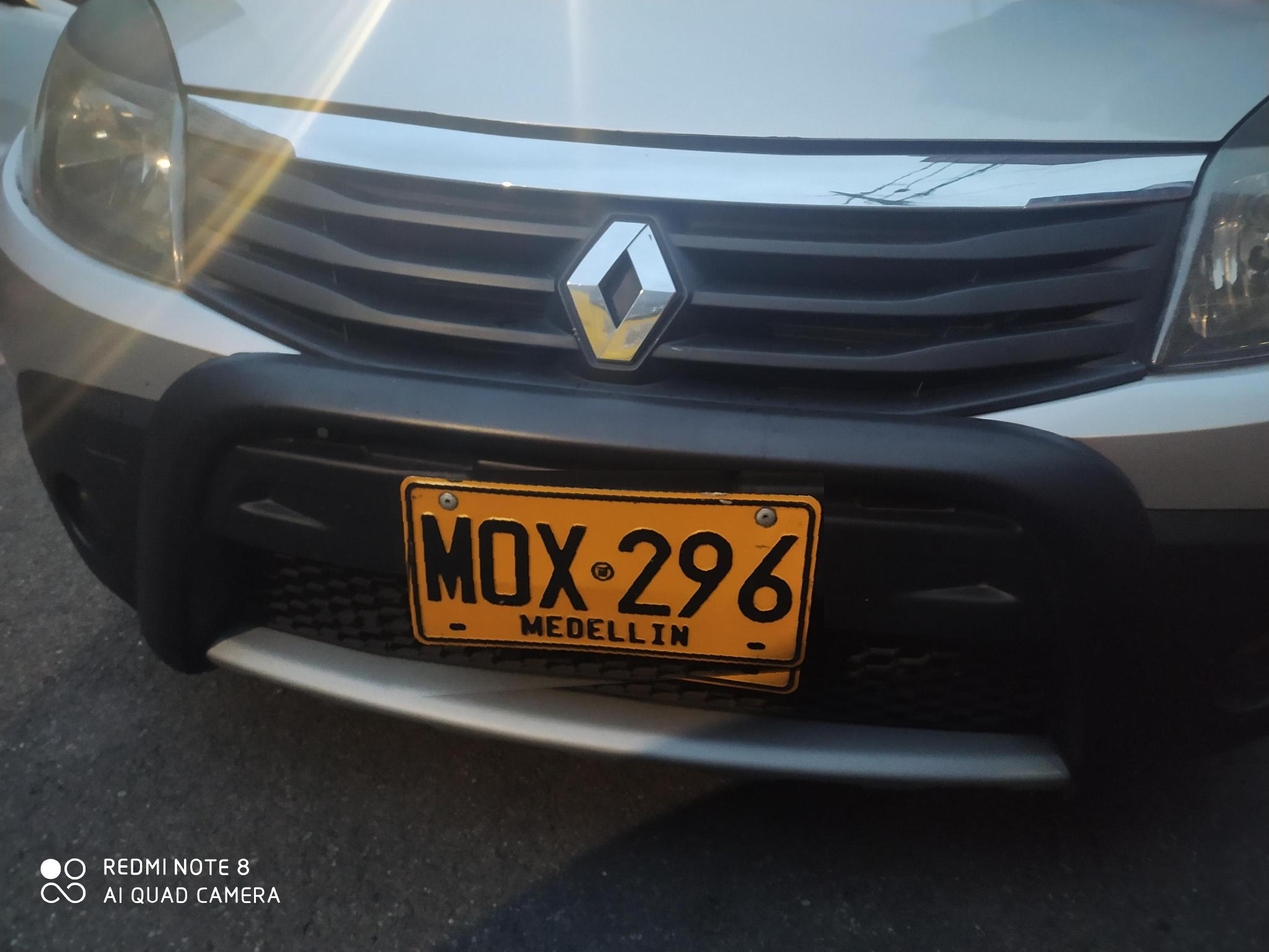placa: (383, 470, 824, 699)
